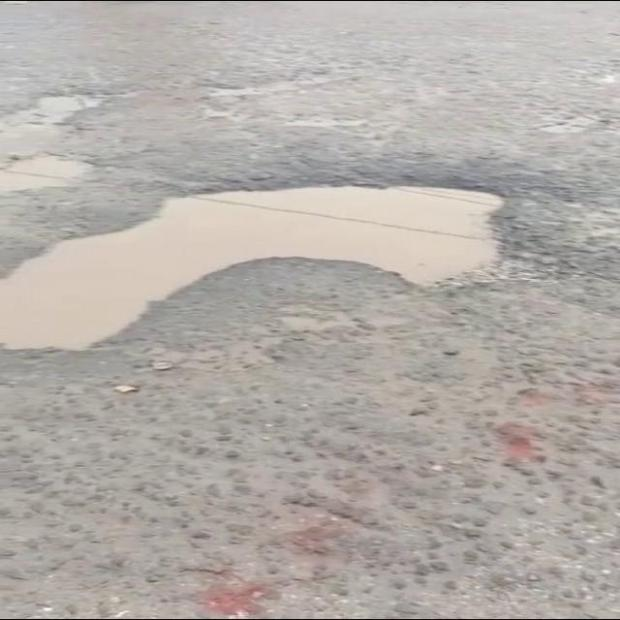lubang: (0, 187, 502, 349), (0, 83, 103, 194)
